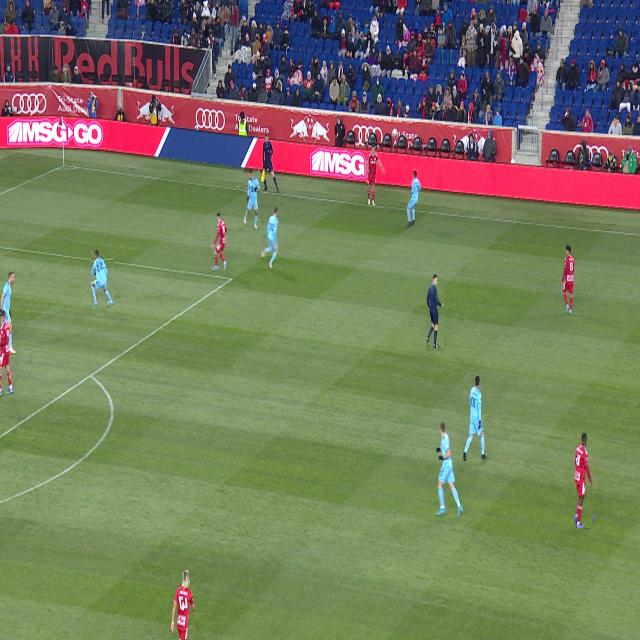football: (393, 129, 397, 137)
player: (436, 422, 463, 517), (463, 376, 487, 461), (171, 570, 195, 639), (575, 433, 592, 528), (0, 272, 16, 354), (91, 251, 114, 306), (0, 311, 13, 396), (261, 208, 279, 269), (367, 144, 384, 206), (244, 170, 260, 230), (211, 213, 227, 272), (561, 246, 574, 314), (406, 171, 421, 228)
referee: (426, 274, 444, 348)
